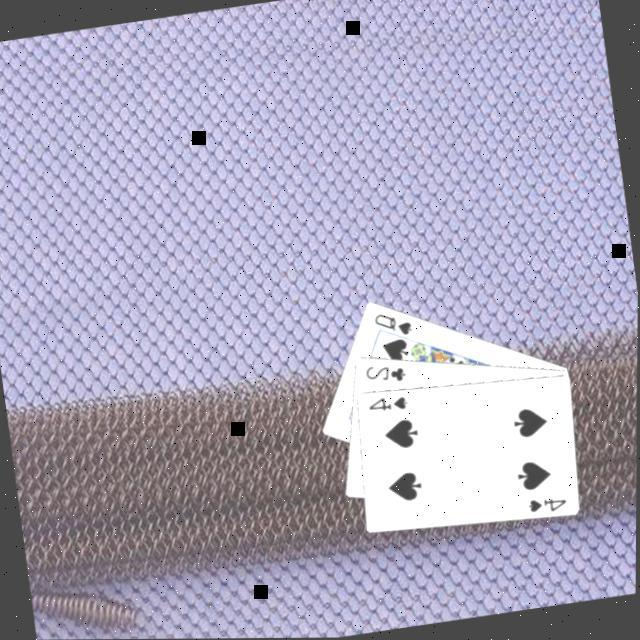2C: (363, 356, 412, 388)
4S: (366, 390, 414, 417), (525, 491, 573, 518)
QS: (371, 305, 419, 342)
